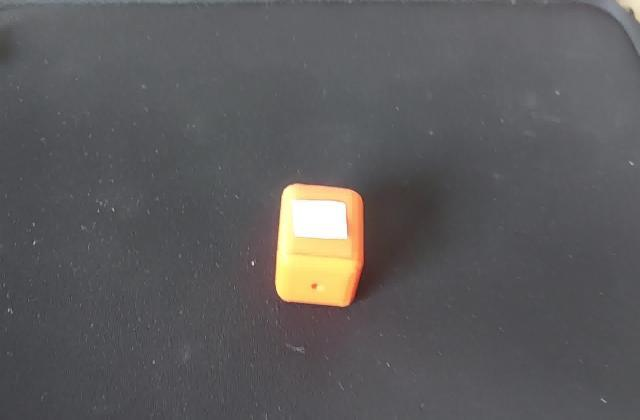sticker: (272, 176, 371, 311)
white: (288, 197, 354, 250)
